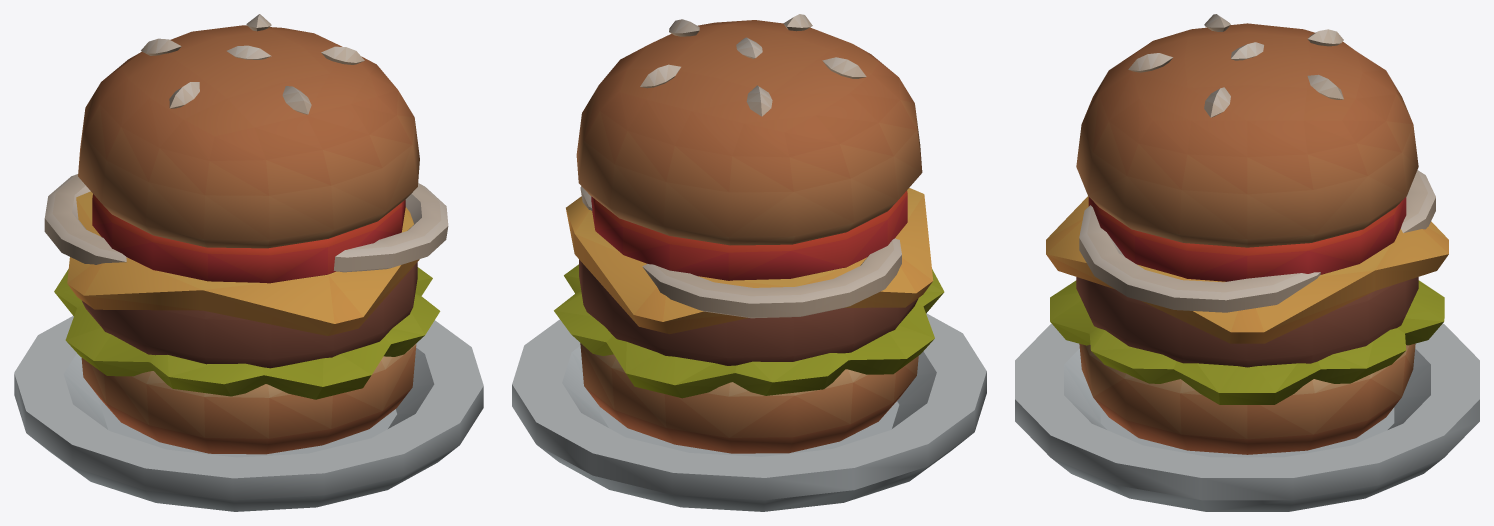
The model's file is kk_restaurant_food_burger.glb.
The picture shows the model from 3 angles, left to right: view 1: azimuth 30°, elevation 25°; view 2: azimuth 150°, elevation 25°; view 3: azimuth 270°, elevation 25°; orthographic projection.
Visible parts, largest first — view 1: kk_restaurant_food_burger; view 2: kk_restaurant_food_burger; view 3: kk_restaurant_food_burger.
Part boxes in pixels (x1,y1,x2,y2): kk_restaurant_food_burger: [14, 14, 483, 511]; kk_restaurant_food_burger: [512, 14, 986, 511]; kk_restaurant_food_burger: [1015, 14, 1479, 511].
Size of the model in its own units: 0.95 by 0.8572 by 0.95.
